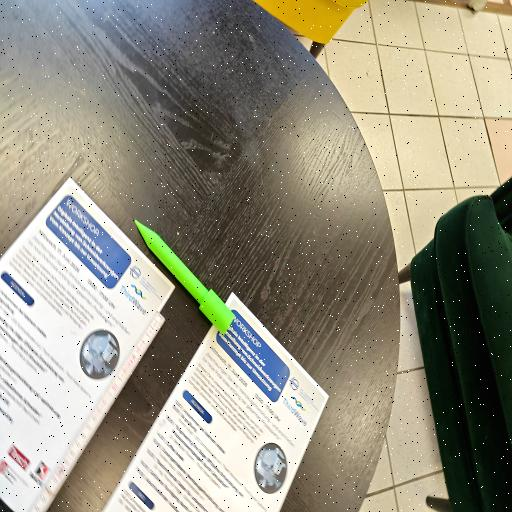Probe-Detection: (134, 220, 234, 334)
